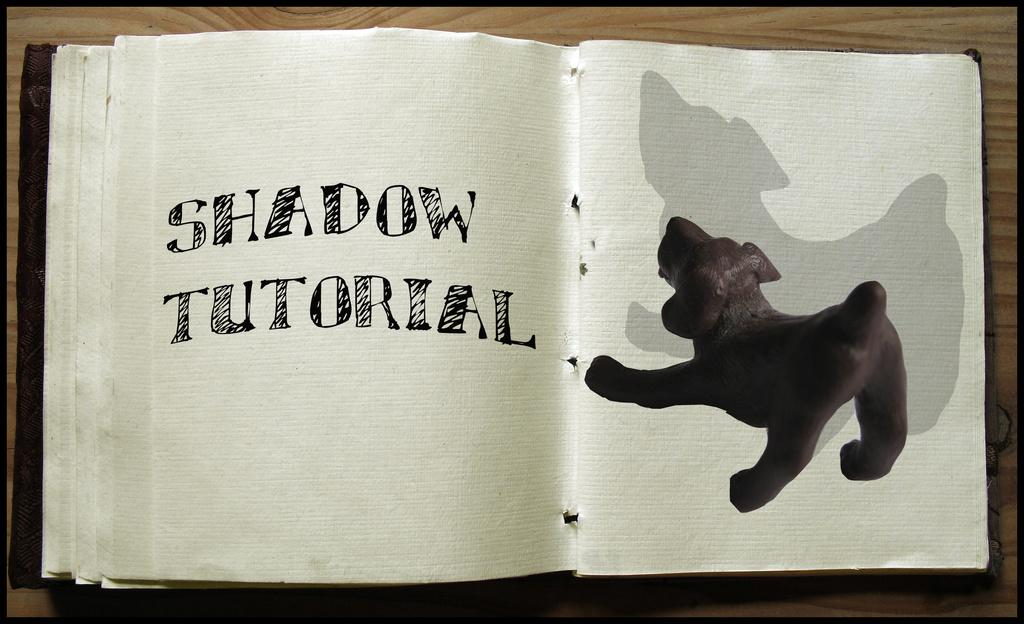book: (12, 26, 873, 563)
